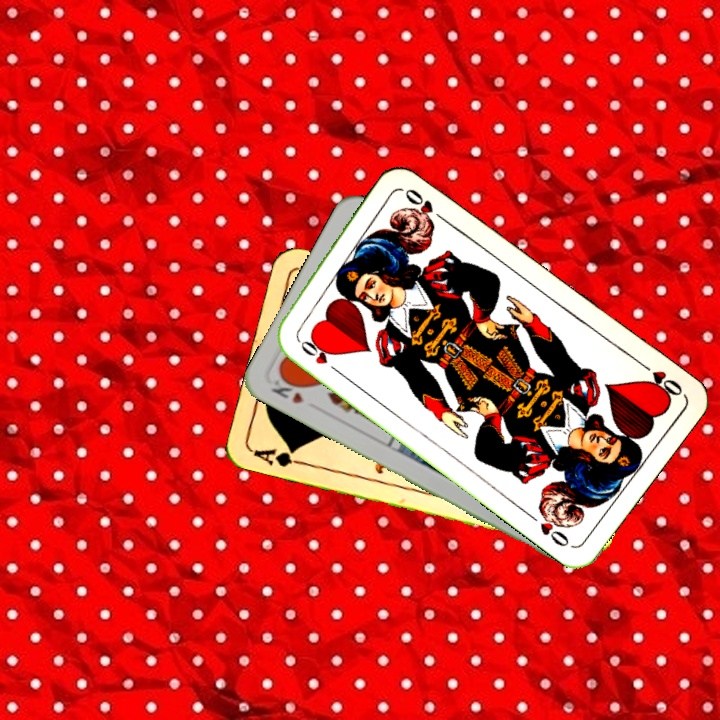GA: (249, 444, 308, 470)
HK: (267, 371, 307, 407)
HO: (635, 357, 685, 402), (291, 331, 341, 375)
